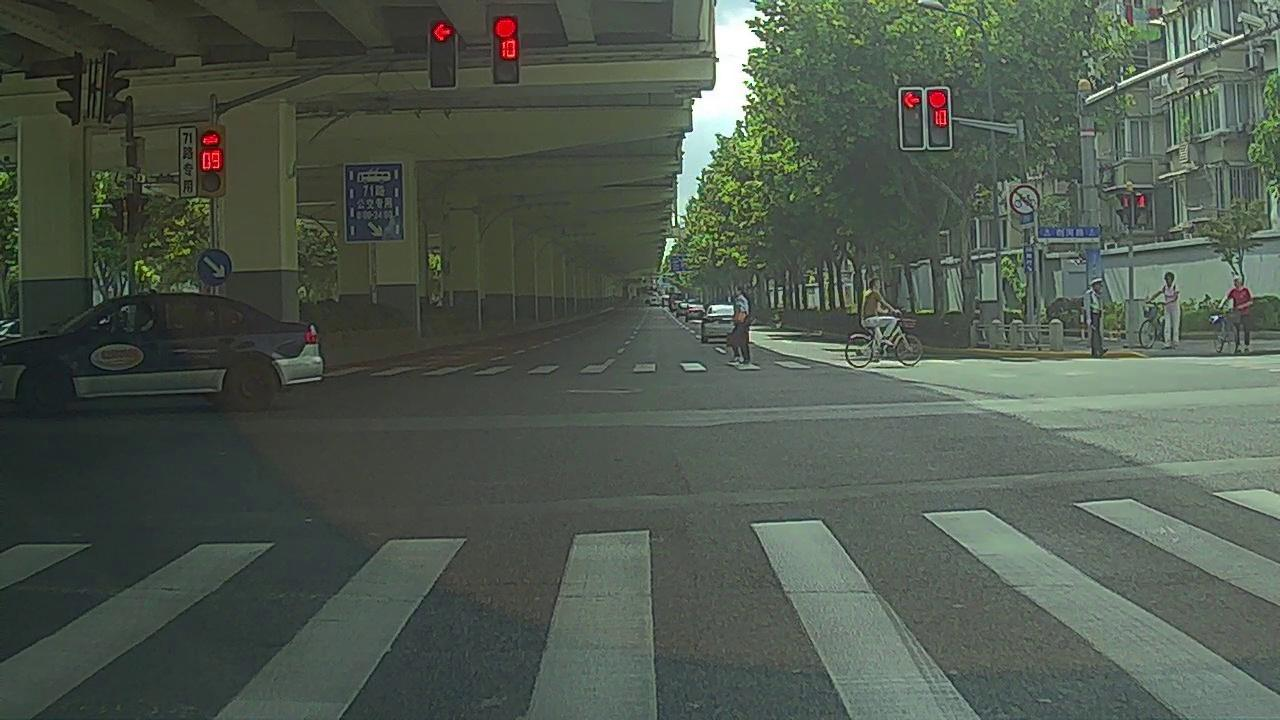traffic_light: (492, 17, 520, 85), (430, 21, 456, 87), (900, 89, 924, 148), (926, 89, 949, 149)
